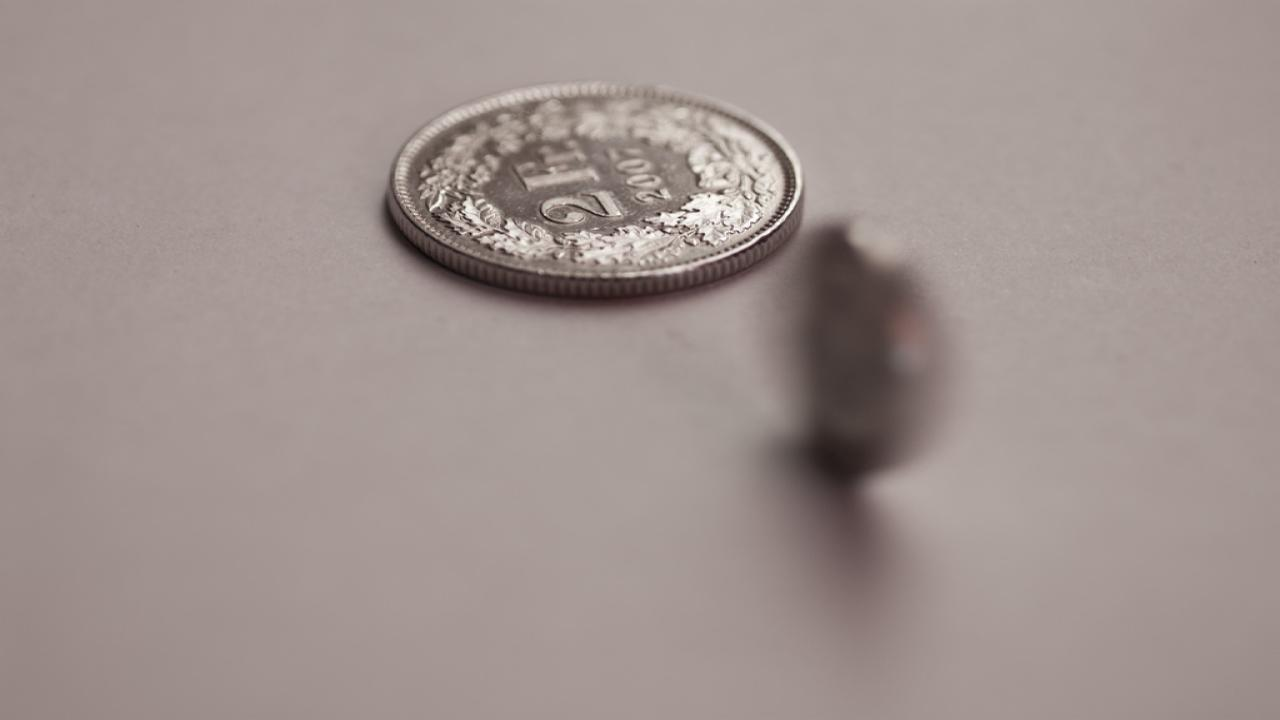coin: (384, 78, 806, 298)
